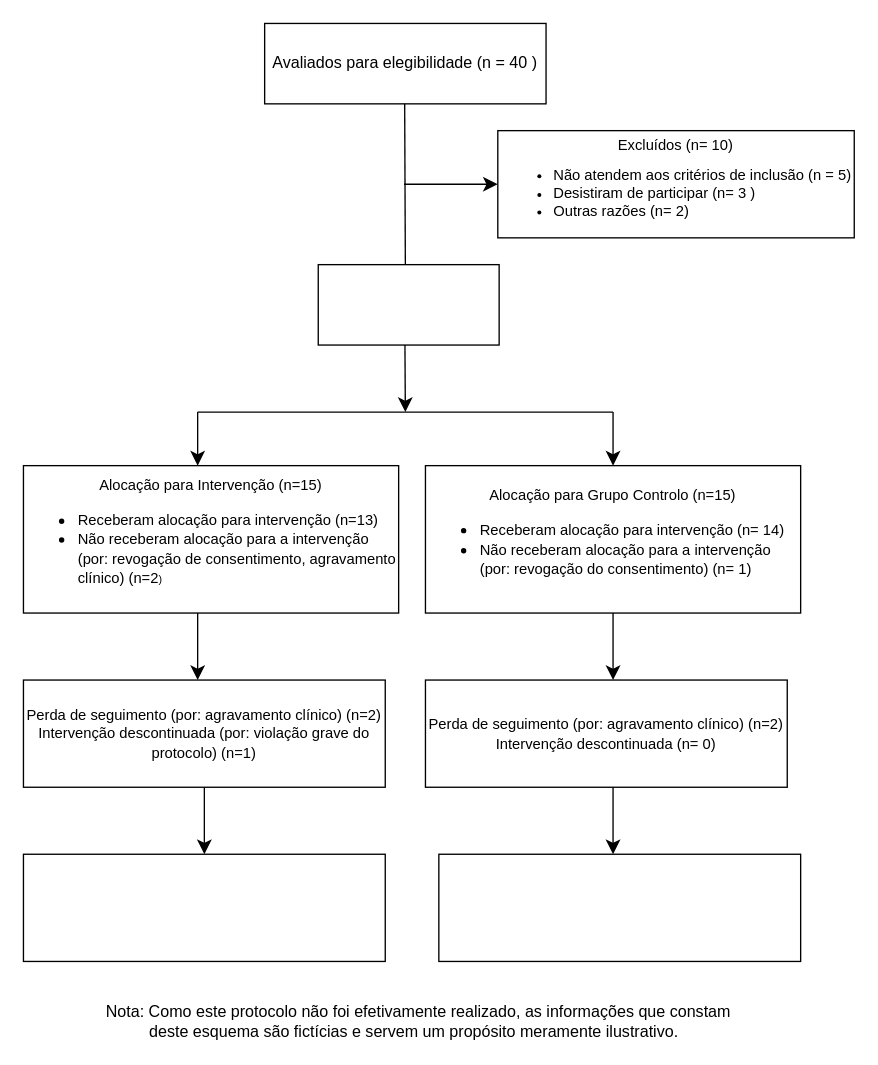
The diagram is 878 pixels wide and 1065 high, and some of its shapes have lost their labels. The shapes that lost their labels are listed below. From the top down, each one's centre as x and y in pixels, then its label:
(x=408, y=304): Randomizados (n= 30)
(x=203, y=907): Analisados (n=10) Excluídos da análise(n=0)
(x=619, y=907): Analisados (n= 12) Excluídos da análise(n= 0)
